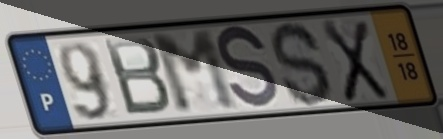9: (57, 39, 116, 123)
B: (99, 34, 174, 119)
M: (147, 27, 243, 118)
S: (268, 19, 336, 110), (215, 22, 280, 115)
X: (317, 17, 392, 105)
